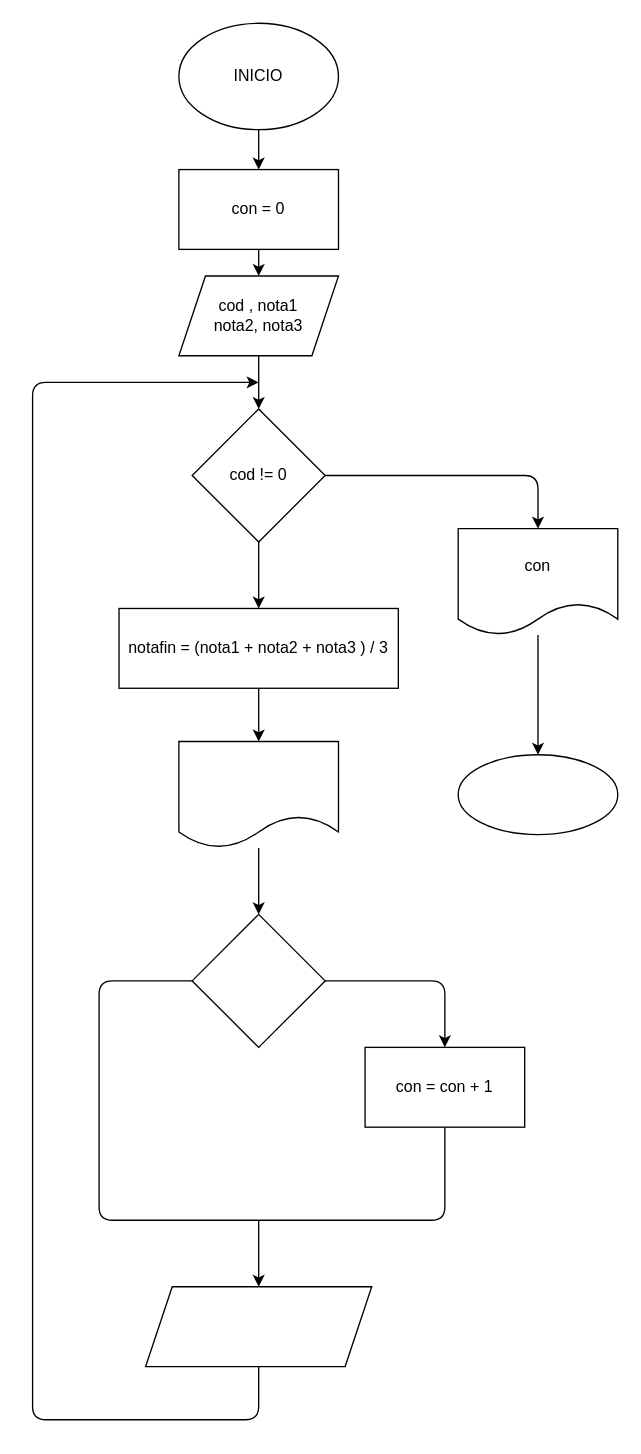
This 641x1454 diagram has some shape labels left out. Each missing label, with the centre of its shape:
"cod , nota1 , nota2, nota3" belongs at point 258,1326.
"cod notafin" belongs at point 258,794.
"notafin < 3.0" belongs at point 258,980.
